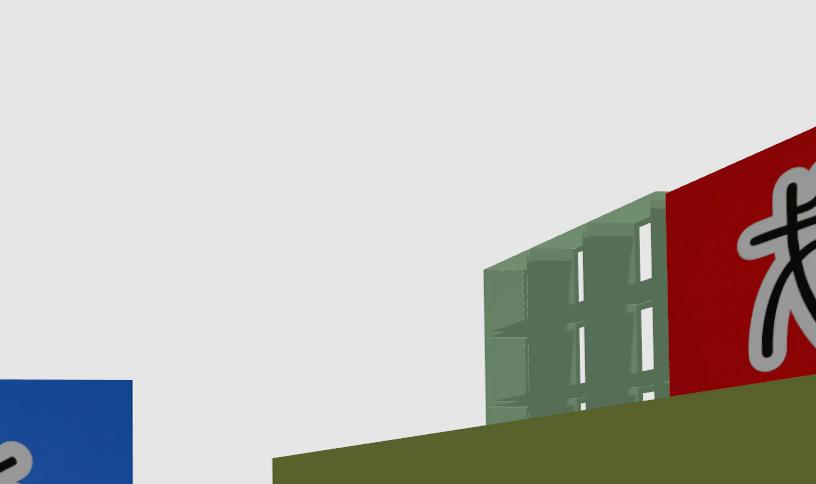KFS_FAKE: (666, 128, 815, 394), (737, 167, 815, 372)
KFS_REAL: (0, 380, 131, 484), (0, 439, 32, 484)
